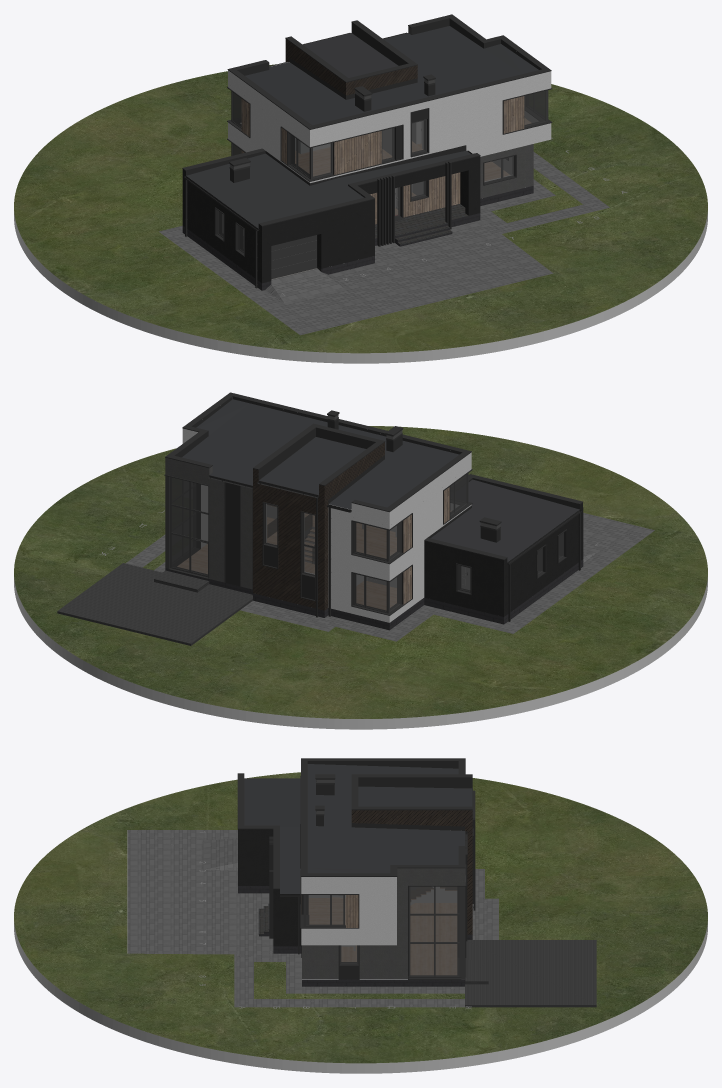
Rendered from house-5.glb.
3 renders of one model, top to bottom at view 1: azimuth 30°, elevation 25°; view 2: azimuth 150°, elevation 25°; view 3: azimuth 270°, elevation 25°, orthographic.
Visible parts, largest first — view 1: Material25, Material28, Material14, Material3 (×2), Material7, Material10, Material24, Material9, Material15, Material11, Material21, Material4 (+4 smaller); view 2: Material25, Material14, Material3 (×2), Material32, Material15, Material7, Material24, Material10, Material28, Material4, Material8, Material21 (+4 smaller); view 3: Material25, Material28, Material14, Material3 (×2), Material32, Material24, Material15, Material8, Material7, Material2, Material10, Material4 (+2 smaller).
Boxes of the visible parts, x1,y1,x2,y2 form: Material25: (14,64,707,353); Material28: (159,152,609,335); Material14: (186,26,538,228); Material3 (×2): (182,14,552,288); Material7: (228,62,551,182); Material10: (182,156,480,283); Material24: (14,211,707,363); Material9: (241,96,524,224); Material15: (218,91,545,251); Material11: (218,90,548,279); Material21: (182,186,533,290); Material4: (285,39,417,95); Material25: (14,426,707,718); Material14: (182,399,579,562); Material3 (×2): (164,392,582,621); Material32: (57,563,252,645); Material15: (171,474,562,611); Material7: (182,428,471,622); Material24: (14,577,707,729); Material10: (424,503,583,616); Material28: (125,513,654,641); Material4: (253,442,384,610); Material8: (165,457,252,589); Material21: (165,559,583,630); Material25: (14,772,707,1063); Material28: (127,830,498,1007); Material14: (244,764,472,893); Material3 (×2): (237,758,475,979); Material32: (465,940,596,1007); Material24: (14,921,707,1073); Material15: (306,886,459,976); Material8: (244,778,465,978); Material7: (301,877,396,945); Material2: (309,888,456,974); Material10: (238,829,301,946); Material4: (351,810,472,934).
Bounding box in the file's own units: 42.15 × 9.59 × 42.15.
29 materials, 13 textured.
